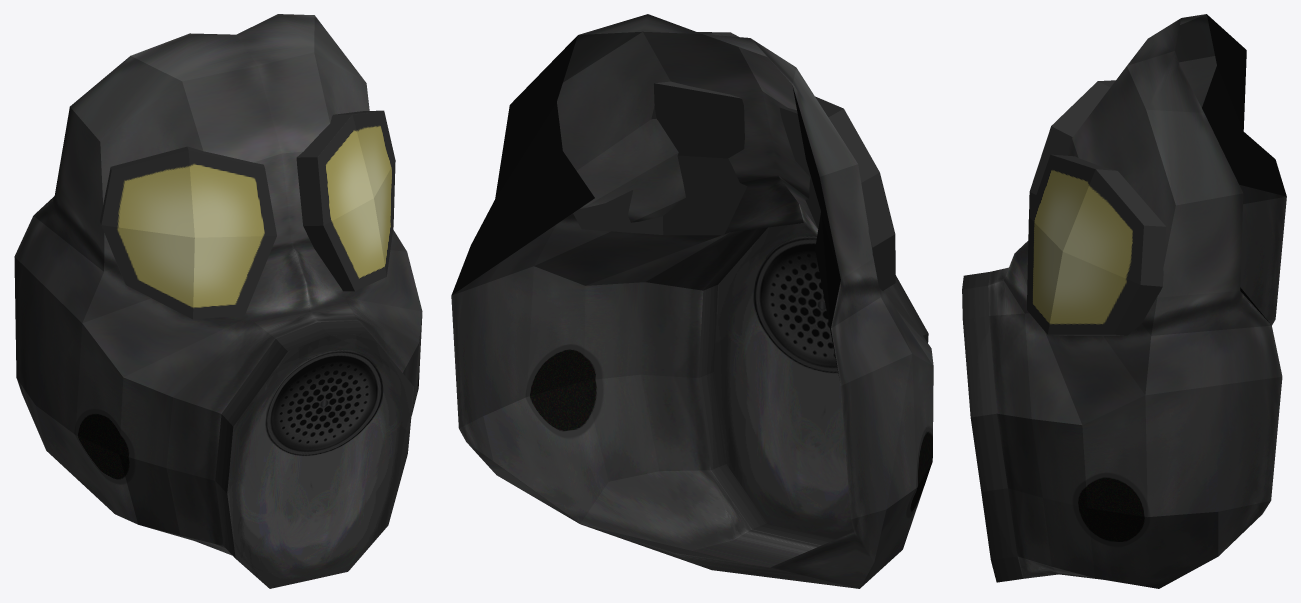
File: M17Doff.obj
3 renders of one model, left to right at view 1: azimuth 30°, elevation 25°; view 2: azimuth 150°, elevation 25°; view 3: azimuth 270°, elevation 25°, orthographic. The views are drawn at different scales.
Parts seen in each view (by area): view 1: Cube.003; view 2: Cube.003; view 3: Cube.003.
Boxes of the visible parts, x1,y1,x2,y2 form: Cube.003: (14,14,422,588); Cube.003: (451,14,933,588); Cube.003: (962,14,1286,588).
Bounding box in the file's own units: 0.00124 × 0.0017 × 0.000948.
